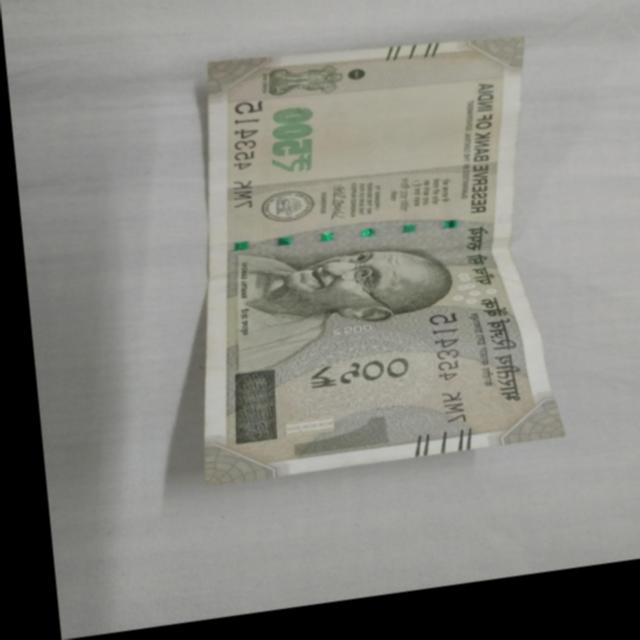Currency: (162, 21, 562, 495)
